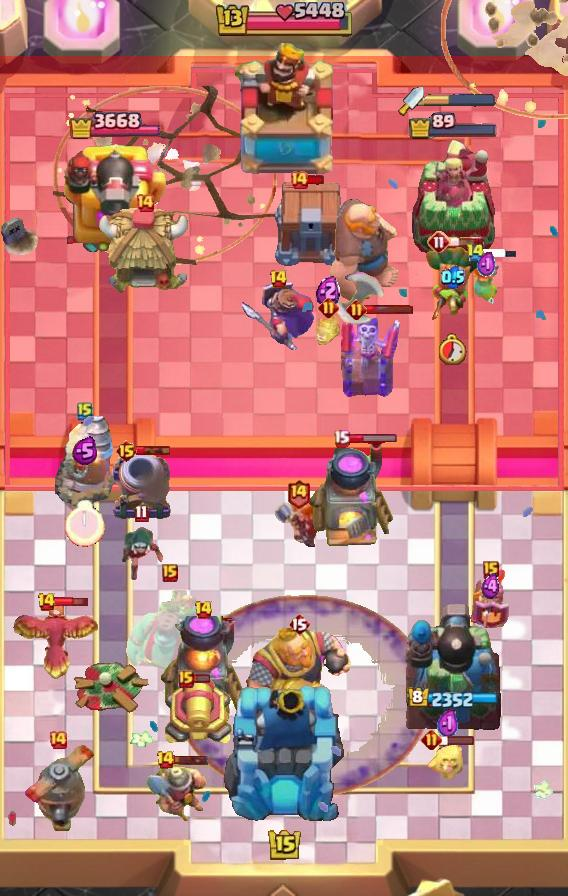balloon: (326, 195, 400, 303)
bandit: (144, 763, 210, 825)
bar: (409, 138, 497, 256)
bat-evolution: (426, 740, 470, 780)
bomb: (272, 182, 350, 268)
clock: (213, 2, 355, 40)
dark-prince: (14, 743, 102, 831)
electro-spirit: (316, 274, 340, 308), (72, 436, 98, 466), (437, 708, 459, 741), (441, 265, 465, 289), (481, 573, 501, 600), (477, 251, 496, 279)
elixir: (65, 500, 105, 547), (439, 333, 467, 365)
elixir-golem-big: (239, 280, 317, 354)
emote: (347, 432, 398, 443), (364, 304, 414, 315), (55, 595, 90, 609), (171, 754, 209, 766), (448, 236, 484, 248), (482, 247, 518, 259), (439, 734, 475, 746), (137, 444, 172, 455), (306, 174, 326, 186), (193, 672, 212, 683)
giant-skeleton: (243, 624, 357, 728)
goblin-barrel: (423, 241, 483, 321)
goblin-cage: (109, 452, 173, 522)
golden-knight: (10, 606, 102, 680)
guard: (53, 87, 277, 266), (440, 0, 568, 119)
hog-rider: (274, 499, 322, 549), (467, 255, 505, 307)
hunter: (307, 442, 397, 550), (159, 616, 247, 726)
ice-spirit-evolution: (312, 311, 344, 347)
king-tower: (221, 682, 347, 826), (228, 41, 340, 181)
king-tower-bar: (424, 93, 496, 107)
lava-hound: (124, 586, 216, 698)
magic-archer: (55, 415, 115, 507)
prince: (98, 206, 192, 296)
princess: (470, 568, 512, 630)
rocket: (175, 595, 431, 799)
royal-giant: (333, 271, 401, 325)
royal-recruit: (163, 675, 235, 749)
selected: (68, 108, 159, 144), (409, 112, 500, 140), (407, 687, 499, 711)
skeleton-king-bar: (341, 308, 403, 398)
tesla: (116, 526, 166, 580)
text: (286, 478, 311, 509), (427, 230, 451, 254), (114, 439, 138, 463), (288, 612, 310, 636), (318, 297, 339, 319), (346, 299, 367, 321), (421, 729, 442, 751), (289, 170, 309, 190), (135, 193, 155, 213), (36, 592, 56, 612), (194, 600, 214, 620), (48, 730, 68, 750), (269, 269, 288, 289), (157, 750, 176, 770), (466, 243, 485, 261), (334, 428, 351, 447), (77, 401, 93, 421), (483, 561, 499, 579), (162, 564, 178, 582), (178, 670, 194, 688), (135, 505, 149, 524)
tower-bar: (403, 601, 503, 731), (60, 138, 168, 256)
